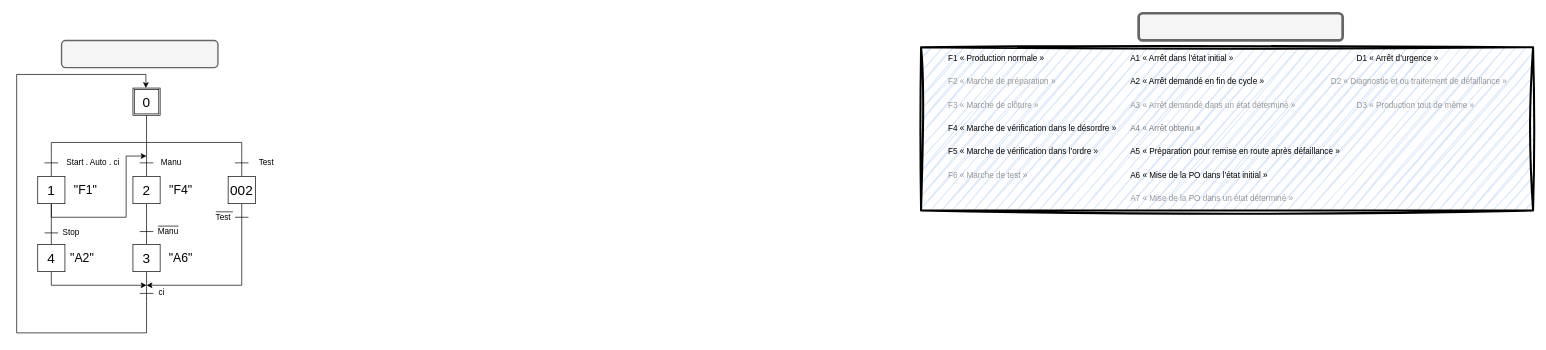
Some shapes in this 1546 by 350 pixel diagram are drawn without their labels. Each missing label, with the centre of its shape:
"Grafcet de condite" belongs at [139,53].
"Les Modes de la Machine" belongs at [1240,26].
